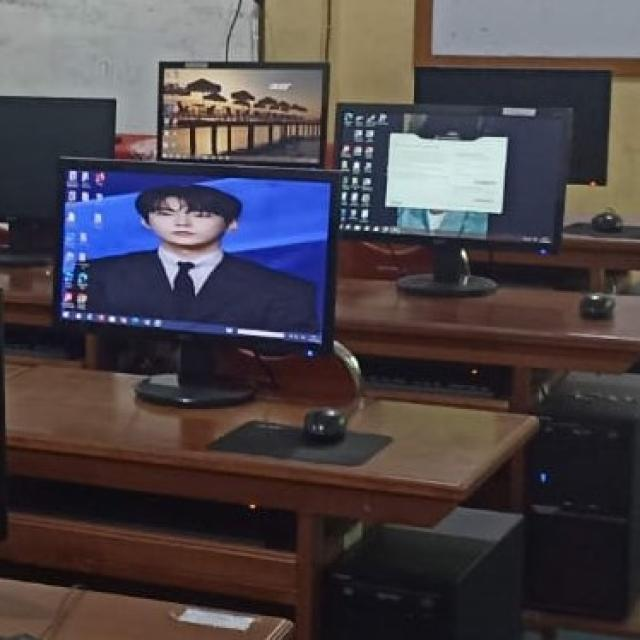offscreen: (415, 71, 608, 184), (0, 97, 114, 217)
onscreen: (56, 161, 339, 344), (339, 106, 569, 249), (159, 63, 326, 166)
